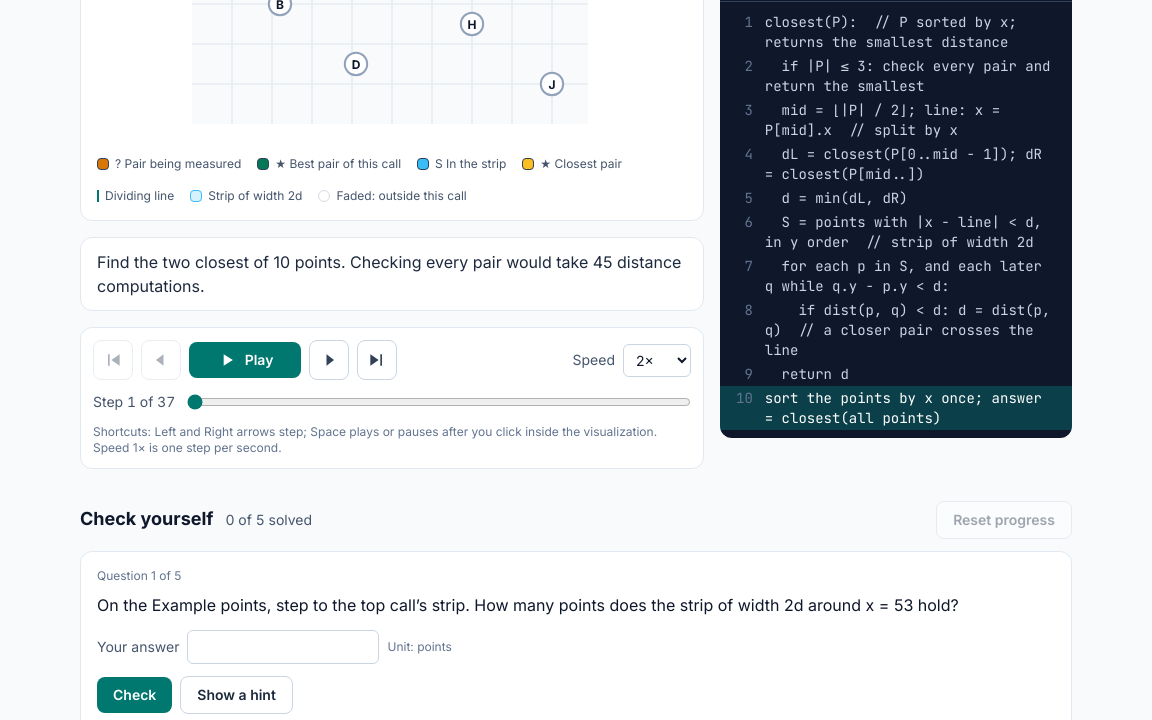
Test: closest pair lesson › finds E–F across the dividing line with fewer checks than all pairs
The width and height of the screenshot is (1152, 720).
(page scrolled)
Step 1. Click the button named "Last step" → (377, 360), box [357,340,397,380]
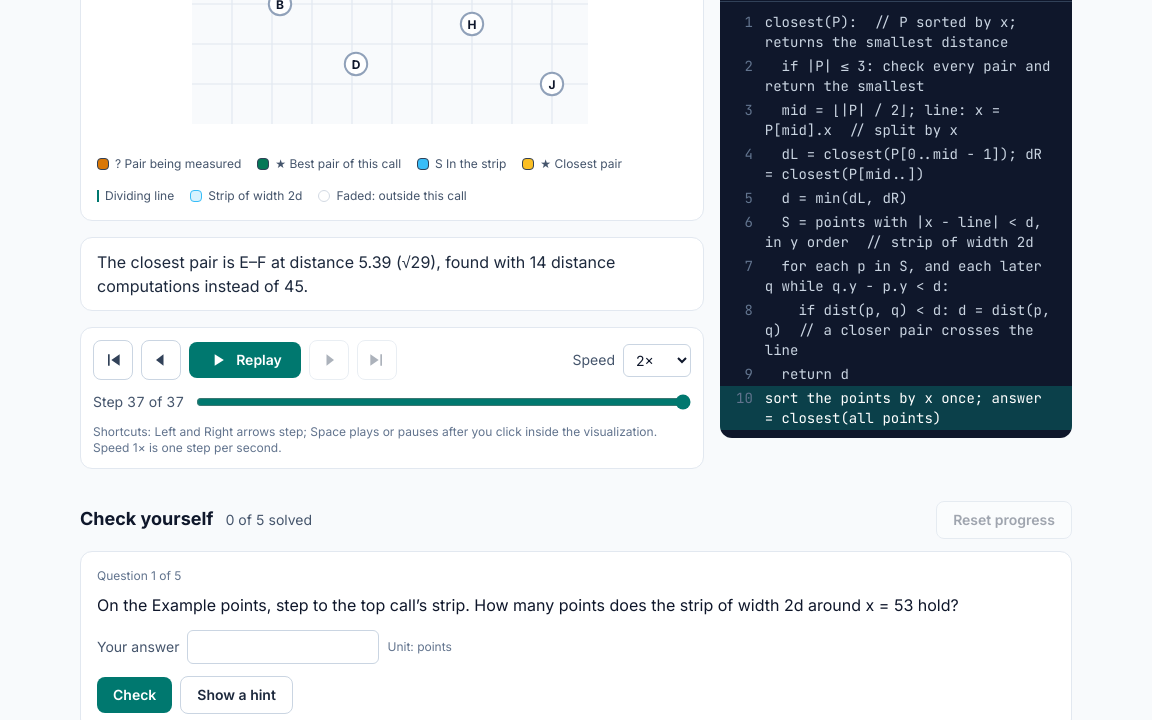
expect the text "The closest pair is E–F at distance 5.39 (√29)" is shown: met, box [97,252,615,296]
